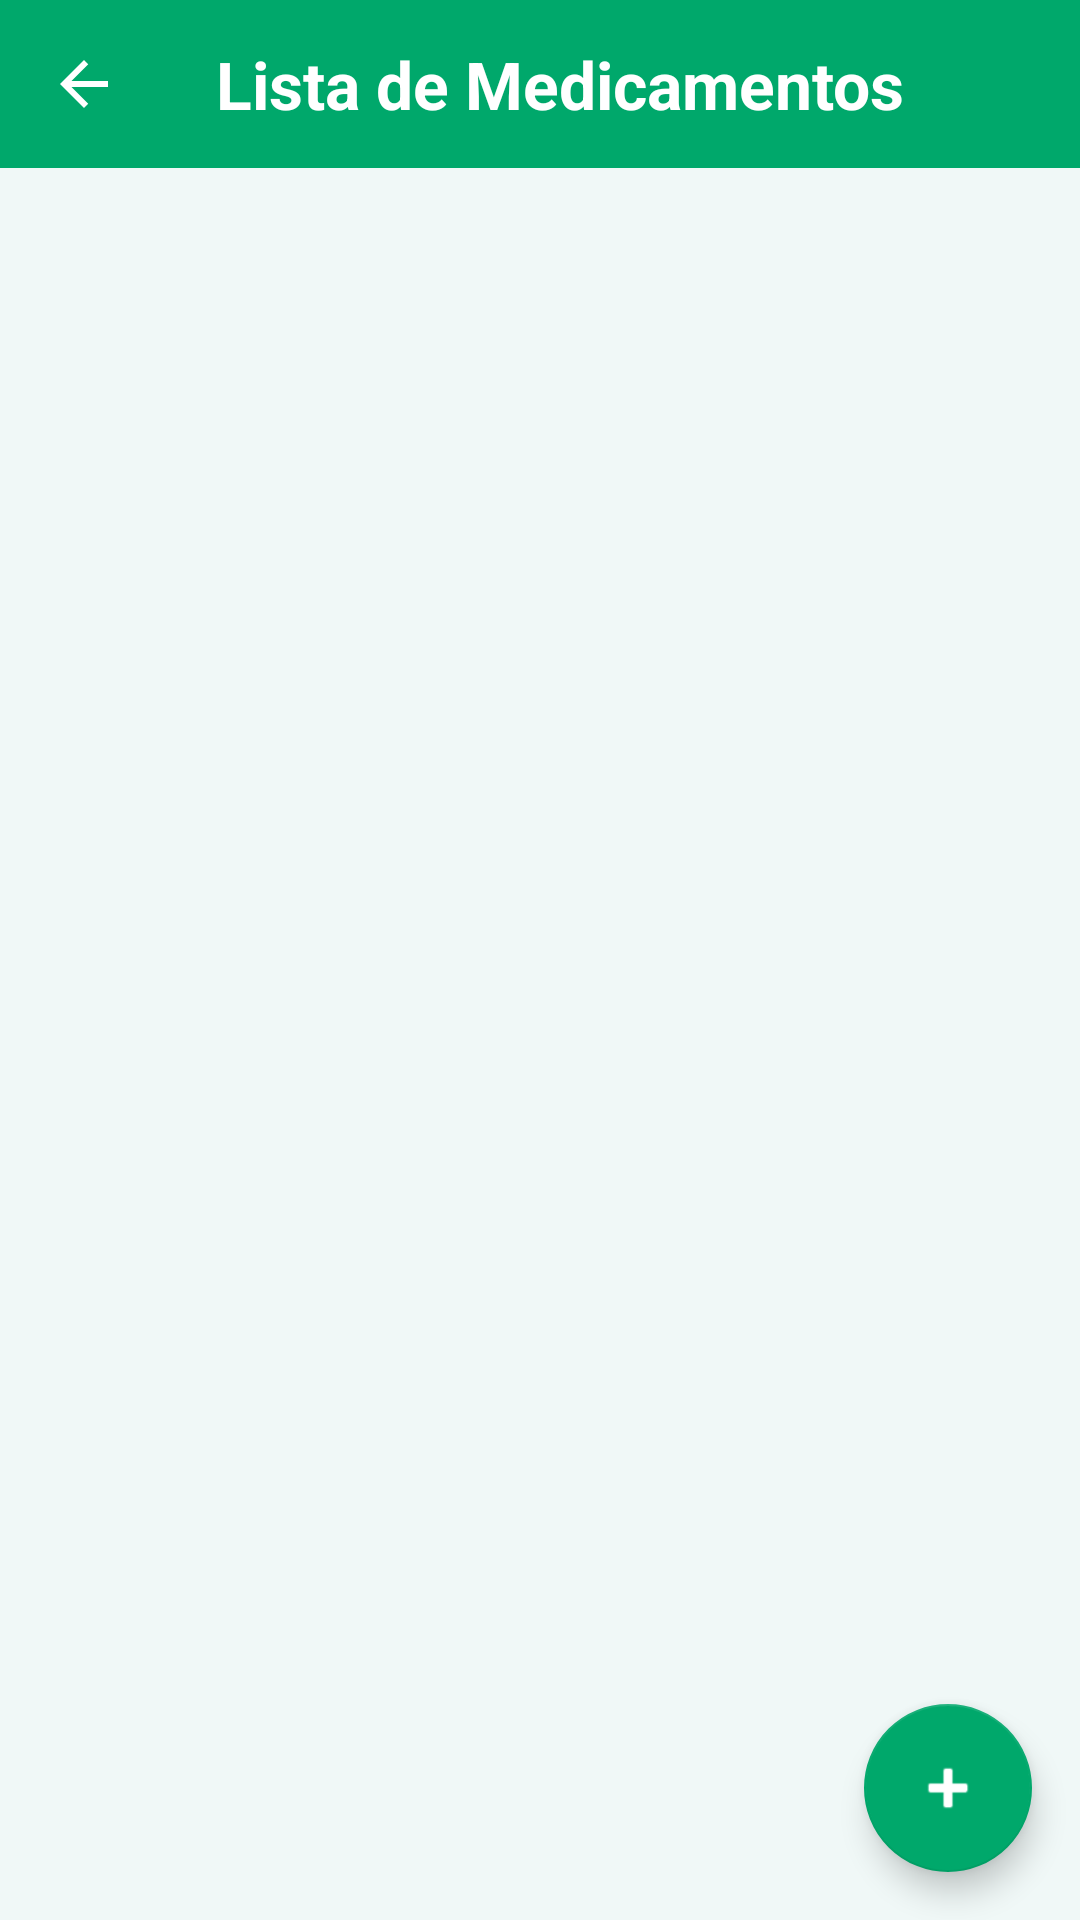

Icons on this 1080px×1920px Android screen, each with its box as box(x1, y1, x2, y2):
Añadir nuevo medicamento: box(864, 1704, 1032, 1872)
Volver atrás: box(60, 60, 108, 108)
